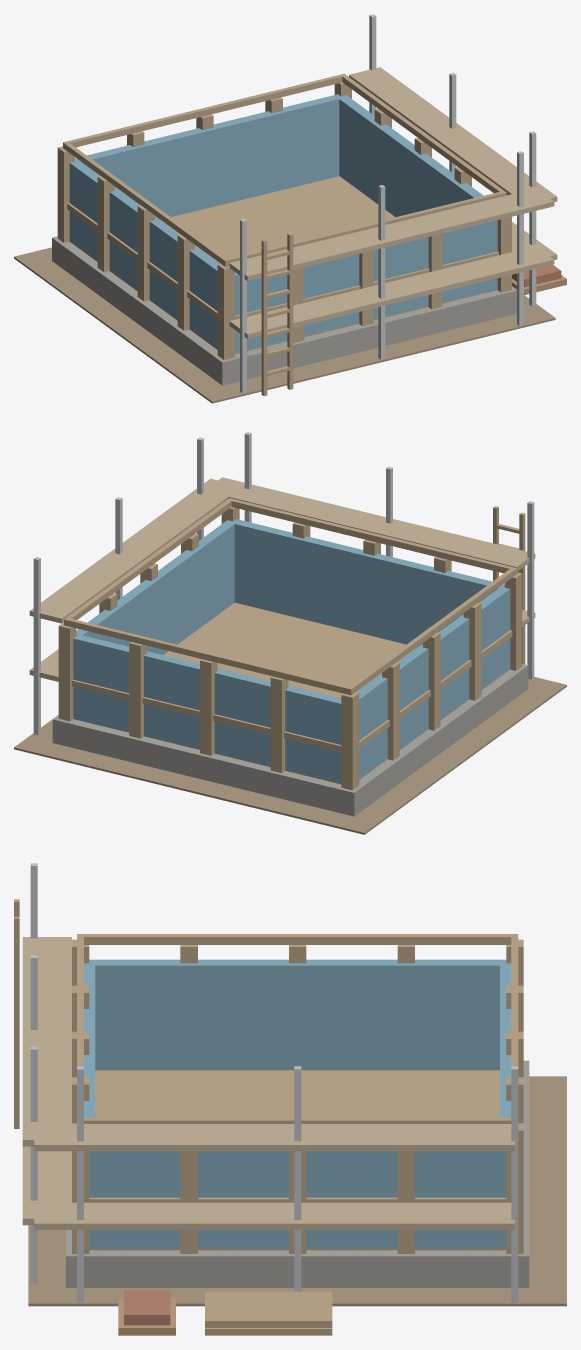
File: duck_pond_site_7.glb
3 views of the same model, one above another, from view 1: azimuth 30°, elevation 25°; view 2: azimuth 150°, elevation 25°; view 3: azimuth 270°, elevation 25° (orthographic). The views are drawn at different scales.
Parts seen in each view (by area): view 1: body; view 2: body; view 3: body.
Part boxes in pixels (box(x1,y1,x2,y2)): body: box(14, 14, 566, 403); body: box(14, 432, 566, 834); body: box(14, 863, 566, 1335).
Size of the model in its own units: 2.1 by 0.9 by 1.91.
